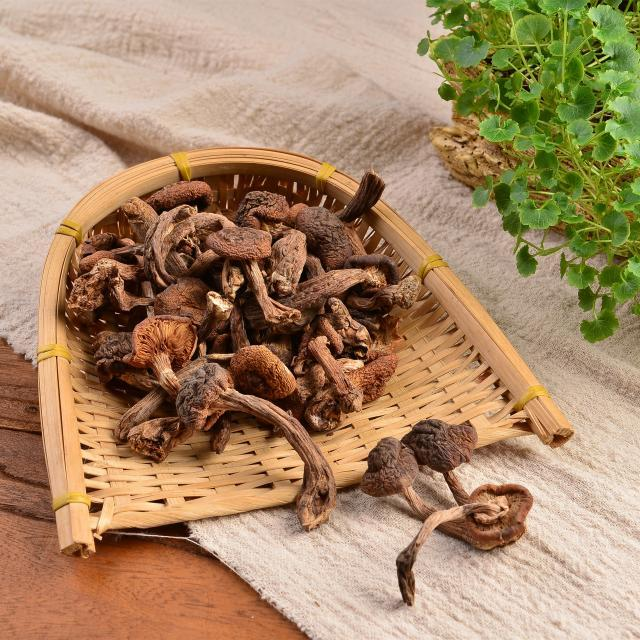Armillaria mellea: (62, 182, 533, 604)
